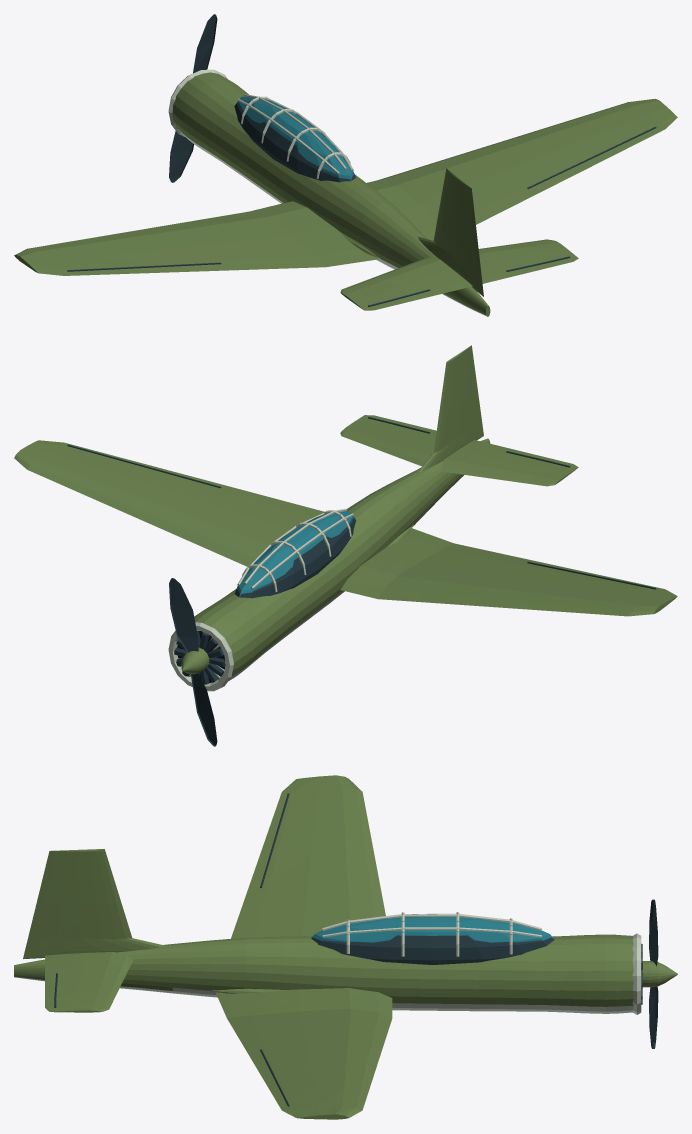
Rendered from archive-cj6a.glb.
The picture shows the model from 3 angles, top to bottom: view 1: azimuth 30°, elevation 25°; view 2: azimuth 150°, elevation 25°; view 3: azimuth 270°, elevation 25°; orthographic projection. The views are drawn at different scales.
Visible parts, largest first — view 1: archive-cj6a-wing_0_-1.001-geometry, archive-cj6a-wing_0_1.001-geometry, archive-cj6a-fuselage.005-geometry, archive-cj6a-archive-cj6a-geometry, archive-cj6a-vertical_tail.001-geometry, archive-cj6a-tailplane.002-geometry, archive-cj6a-tailplane.003-geometry, archive-cj6a-propeller_00-geometry; view 2: archive-cj6a-wing_0_-1.001-geometry, archive-cj6a-wing_0_1.001-geometry, archive-cj6a-fuselage.005-geometry, archive-cj6a-archive-cj6a-geometry, archive-cj6a-vertical_tail.001-geometry, archive-cj6a-tailplane.002-geometry, archive-cj6a-tailplane.003-geometry, archive-cj6a-propeller_00-geometry; view 3: archive-cj6a-fuselage.005-geometry, archive-cj6a-wing_0_-1.001-geometry, archive-cj6a-wing_0_1.001-geometry, archive-cj6a-archive-cj6a-geometry, archive-cj6a-vertical_tail.001-geometry, archive-cj6a-tailplane.003-geometry, archive-cj6a-propeller_00-geometry, archive-cj6a-spinner-geometry.
Boxes of the visible parts, box(x1,y1,x2,y2) form: archive-cj6a-wing_0_-1.001-geometry: box(14, 201, 378, 275); archive-cj6a-wing_0_1.001-geometry: box(366, 98, 677, 240); archive-cj6a-fuselage.005-geometry: box(172, 72, 490, 316); archive-cj6a-archive-cj6a-geometry: box(168, 69, 355, 182); archive-cj6a-vertical_tail.001-geometry: box(418, 168, 483, 296); archive-cj6a-tailplane.002-geometry: box(340, 257, 472, 310); archive-cj6a-tailplane.003-geometry: box(478, 239, 578, 283); archive-cj6a-propeller_00-geometry: box(169, 14, 217, 182); archive-cj6a-wing_0_-1.001-geometry: box(340, 528, 677, 616); archive-cj6a-wing_0_1.001-geometry: box(14, 440, 324, 566); archive-cj6a-fuselage.005-geometry: box(194, 438, 490, 680); archive-cj6a-archive-cj6a-geometry: box(168, 508, 355, 691); archive-cj6a-vertical_tail.001-geometry: box(418, 345, 483, 471); archive-cj6a-tailplane.002-geometry: box(442, 440, 578, 486); archive-cj6a-tailplane.003-geometry: box(340, 415, 436, 466); archive-cj6a-propeller_00-geometry: box(169, 578, 217, 746); archive-cj6a-fuselage.005-geometry: box(14, 934, 633, 1013); archive-cj6a-wing_0_-1.001-geometry: box(231, 775, 385, 938); archive-cj6a-wing_0_1.001-geometry: box(216, 988, 392, 1119); archive-cj6a-archive-cj6a-geometry: box(311, 912, 642, 1014); archive-cj6a-vertical_tail.001-geometry: box(23, 849, 165, 958); archive-cj6a-tailplane.003-geometry: box(45, 952, 132, 1012); archive-cj6a-propeller_00-geometry: box(649, 899, 658, 1048); archive-cj6a-spinner-geometry: box(642, 961, 677, 987).
Size of the model in its own units: 7.25 by 2.1 by 6.
